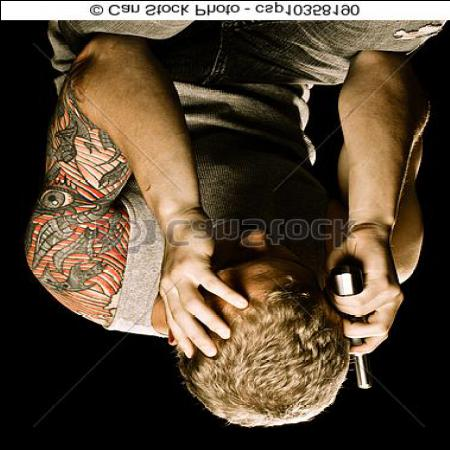Pistol: (324, 258, 374, 390)
